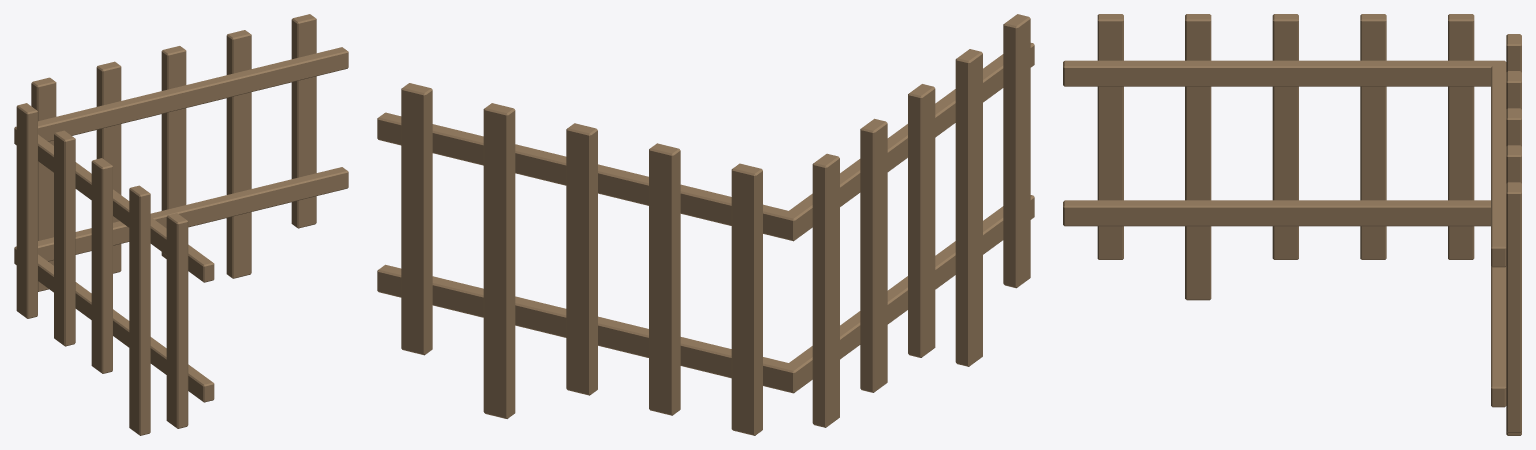
File: Garden_Hedge_Low_Corner.FBX
3 renders of one model, left to right at view 1: azimuth 30°, elevation 25°; view 2: azimuth 150°, elevation 25°; view 3: azimuth 270°, elevation 25°, orthographic. The views are drawn at different scales.
Visible parts, largest first — view 1: Garden_Hedge_Low_Corner; view 2: Garden_Hedge_Low_Corner; view 3: Garden_Hedge_Low_Corner.
Part boxes in pixels (x1,y1,x2,y2): Garden_Hedge_Low_Corner: [14, 14, 348, 435]; Garden_Hedge_Low_Corner: [377, 14, 1034, 435]; Garden_Hedge_Low_Corner: [1063, 14, 1521, 435].
Bounding box in the file's own units: 40.78 × 27.56 × 40.78.
